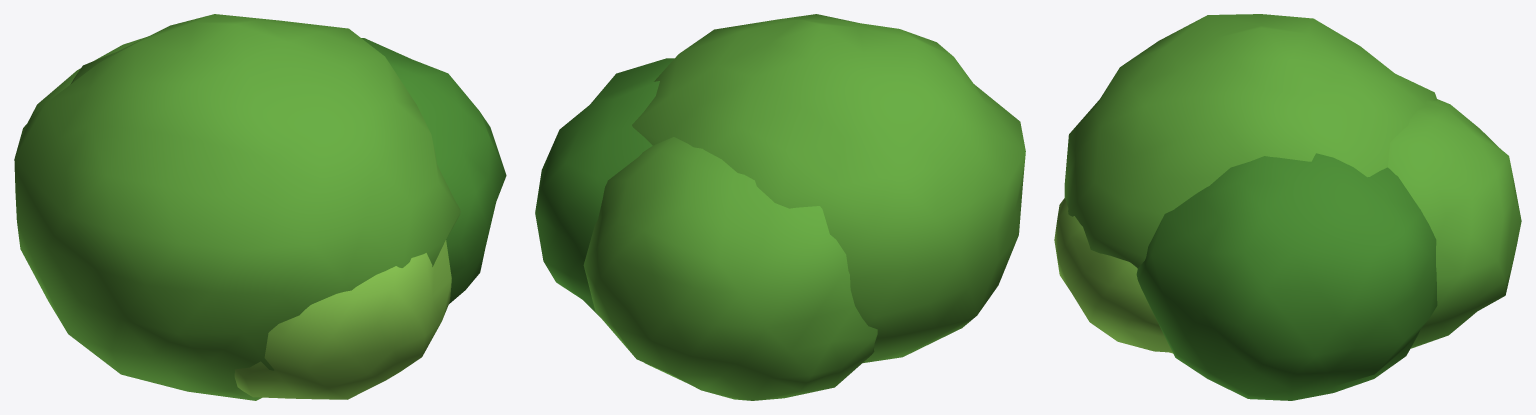
Rendered from Bush.fbx.
The picture shows the model from 3 angles, left to right: view 1: azimuth 30°, elevation 25°; view 2: azimuth 150°, elevation 25°; view 3: azimuth 270°, elevation 25°; orthographic projection. The views are drawn at different scales.
Visible parts, largest first — view 1: Bush; view 2: Bush; view 3: Bush.
Part boxes in pixels (x1=…): Bush: x1=14, y1=14, x2=506, y2=400; Bush: x1=535, y1=14, x2=1025, y2=400; Bush: x1=1054, y1=14, x2=1521, y2=400.
Bounding box in the file's own units: 1.13 × 0.8527 × 1.14.
Materials: 1 (1 with a texture image).
